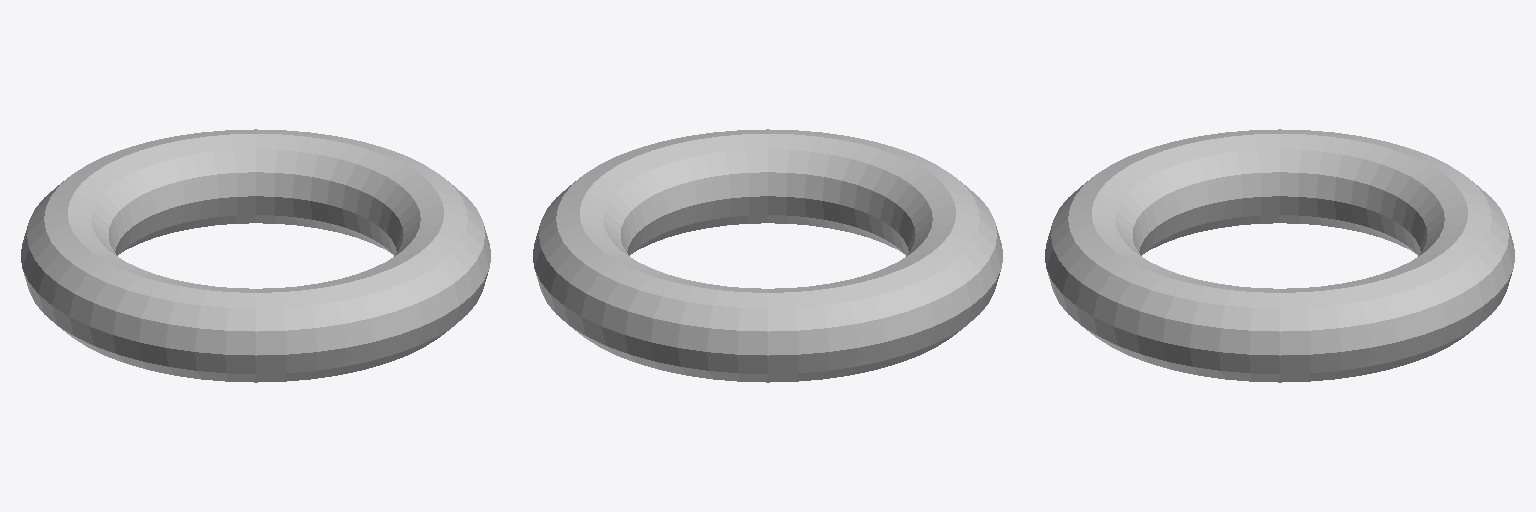
Rendered from PowerUpBase.obj.
The picture shows the model from 3 angles: view 1: azimuth 30°, elevation 25°; view 2: azimuth 150°, elevation 25°; view 3: azimuth 270°, elevation 25°; orthographic projection.
Parts seen in each view (by area): view 1: PowerUpBase_Torus.004; view 2: PowerUpBase_Torus.004; view 3: PowerUpBase_Torus.004.
Boxes of the visible parts, box(x1,y1,x2,y2) form: PowerUpBase_Torus.004: box(21, 129, 490, 382); PowerUpBase_Torus.004: box(533, 129, 1002, 382); PowerUpBase_Torus.004: box(1045, 129, 1514, 382).
Size of the model in its own units: 0.375 by 0.075 by 0.375.